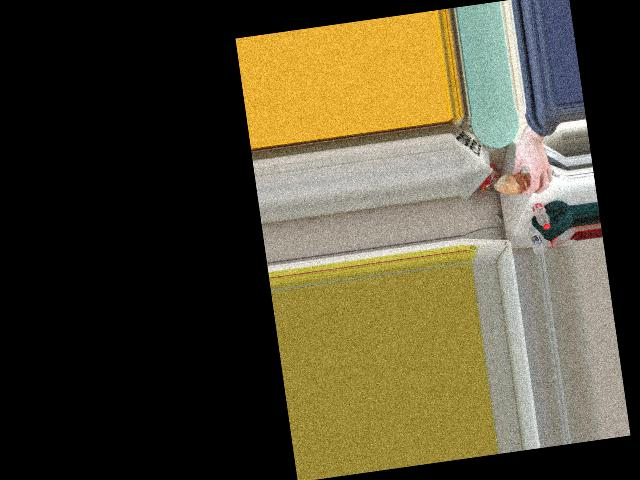sweet_potato: (501, 171, 534, 196)
